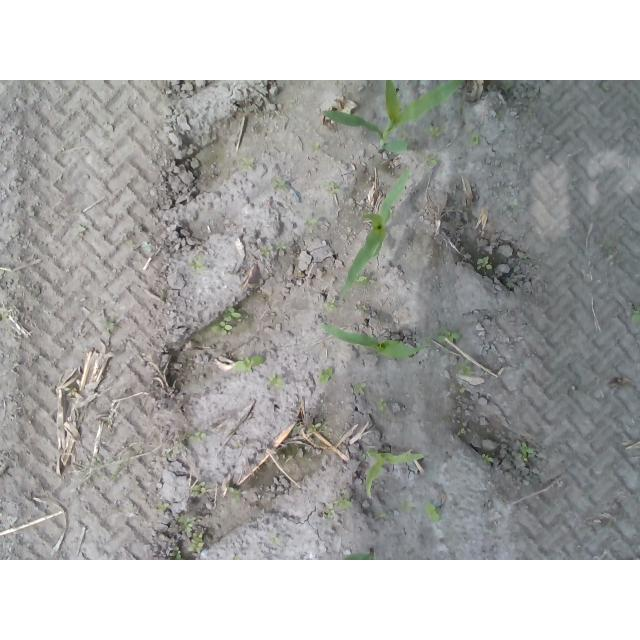Maize: (319, 82, 465, 154), (338, 166, 411, 292), (321, 318, 428, 363), (359, 445, 427, 503), (343, 546, 377, 560)
Weeds: (211, 306, 244, 336), (237, 352, 264, 372), (437, 327, 461, 346), (515, 440, 536, 460), (261, 242, 289, 255), (425, 503, 443, 522), (188, 533, 205, 553), (179, 516, 196, 533), (319, 367, 334, 386), (476, 256, 493, 272), (239, 156, 256, 172), (102, 319, 119, 334), (190, 255, 206, 270), (424, 123, 440, 137), (306, 421, 322, 435), (192, 482, 209, 495), (353, 381, 368, 395), (336, 498, 352, 511), (273, 180, 290, 192), (229, 487, 241, 504), (459, 365, 474, 378), (269, 375, 284, 388), (155, 500, 170, 512), (192, 433, 208, 444), (480, 453, 494, 465), (325, 182, 339, 194), (173, 545, 183, 560), (322, 509, 334, 520), (375, 399, 386, 410), (325, 302, 338, 311), (632, 309, 640, 323), (470, 135, 480, 145)
